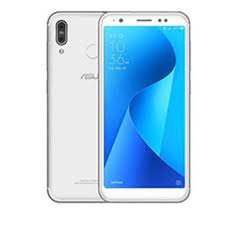asus: (41, 8, 195, 207), (89, 10, 195, 207)
